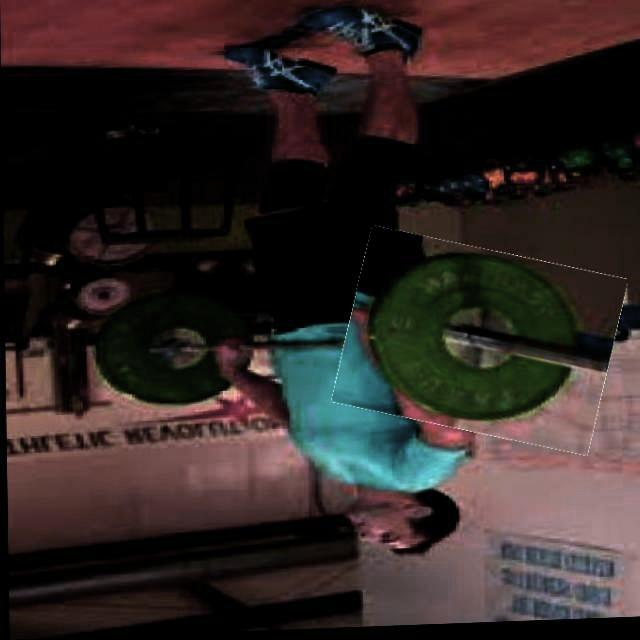barbell: (337, 236, 620, 452)
